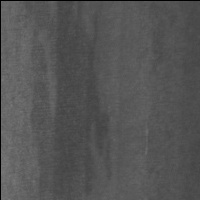inclusion: (76, 13, 114, 199)
